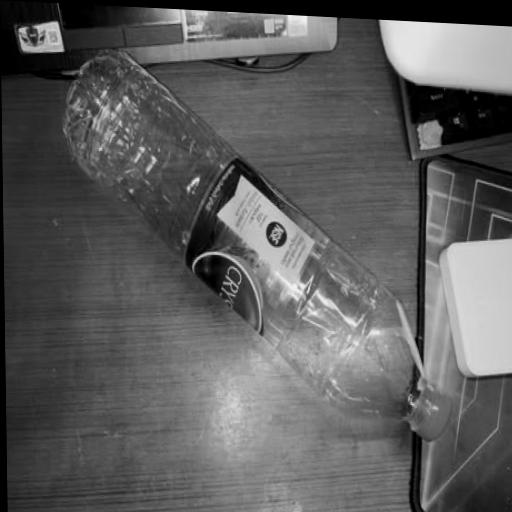ba: (53, 24, 460, 466)
